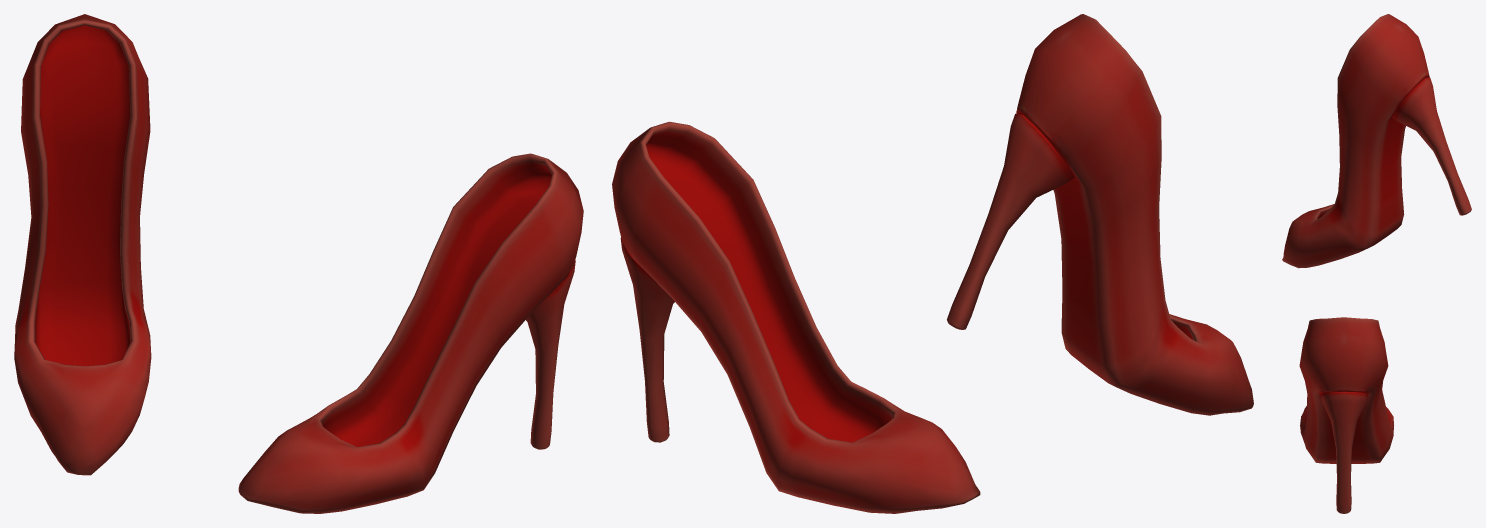
Rendered from BellyH.fbx.
The picture shows the model from 3 angles, left to right: view 1: azimuth 30°, elevation 25°; view 2: azimuth 150°, elevation 25°; view 3: azimuth 270°, elevation 25°; orthographic projection. The views are drawn at different scales.
Visible parts, largest first — view 1: BellyH; view 2: BellyH; view 3: BellyH.
Part boxes in pixels (x1,y1,x2,y2): BellyH: (14,14,583,513); BellyH: (612,14,1253,513); BellyH: (1282,14,1471,513).
Size of the model in its own units: 43.99 by 38.69 by 18.95.
